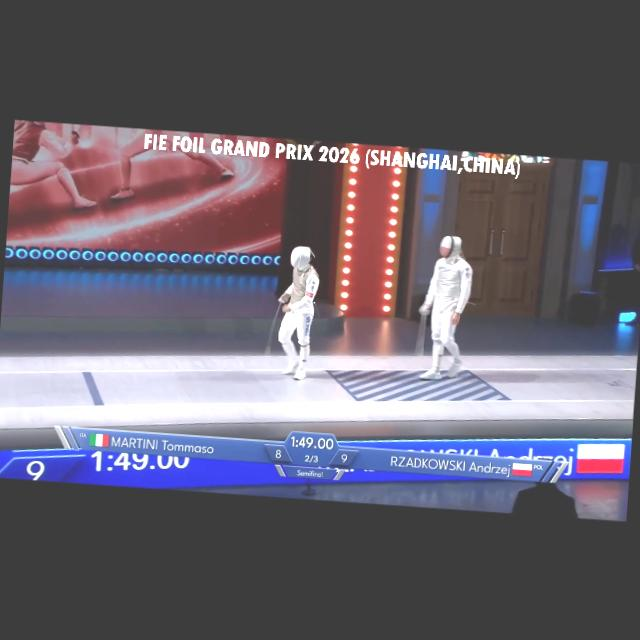blade: (261, 292, 290, 366), (412, 302, 434, 368)
